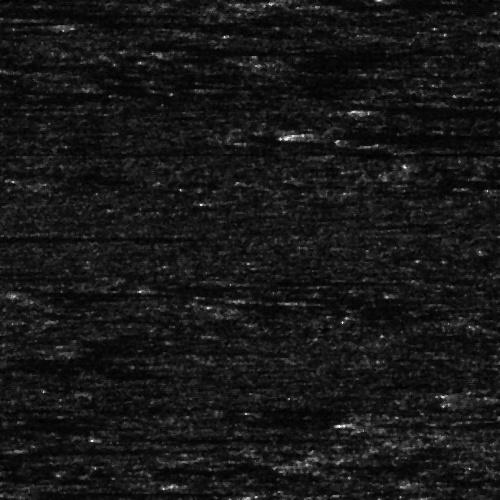object: (265, 119, 358, 148), (5, 16, 130, 27), (103, 44, 196, 55), (184, 277, 277, 282)
shadow: (312, 119, 500, 148), (150, 44, 402, 55), (67, 16, 232, 27), (0, 8, 180, 15), (0, 268, 136, 277), (0, 233, 186, 238), (231, 277, 394, 282)
